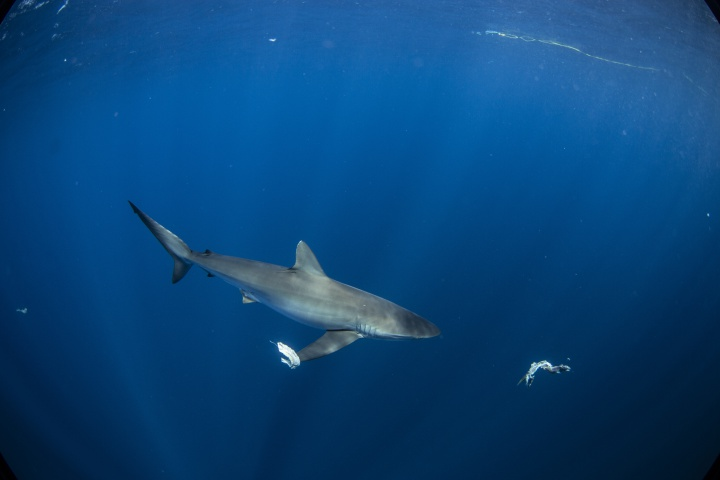Sedoso: (101, 186, 462, 382)
